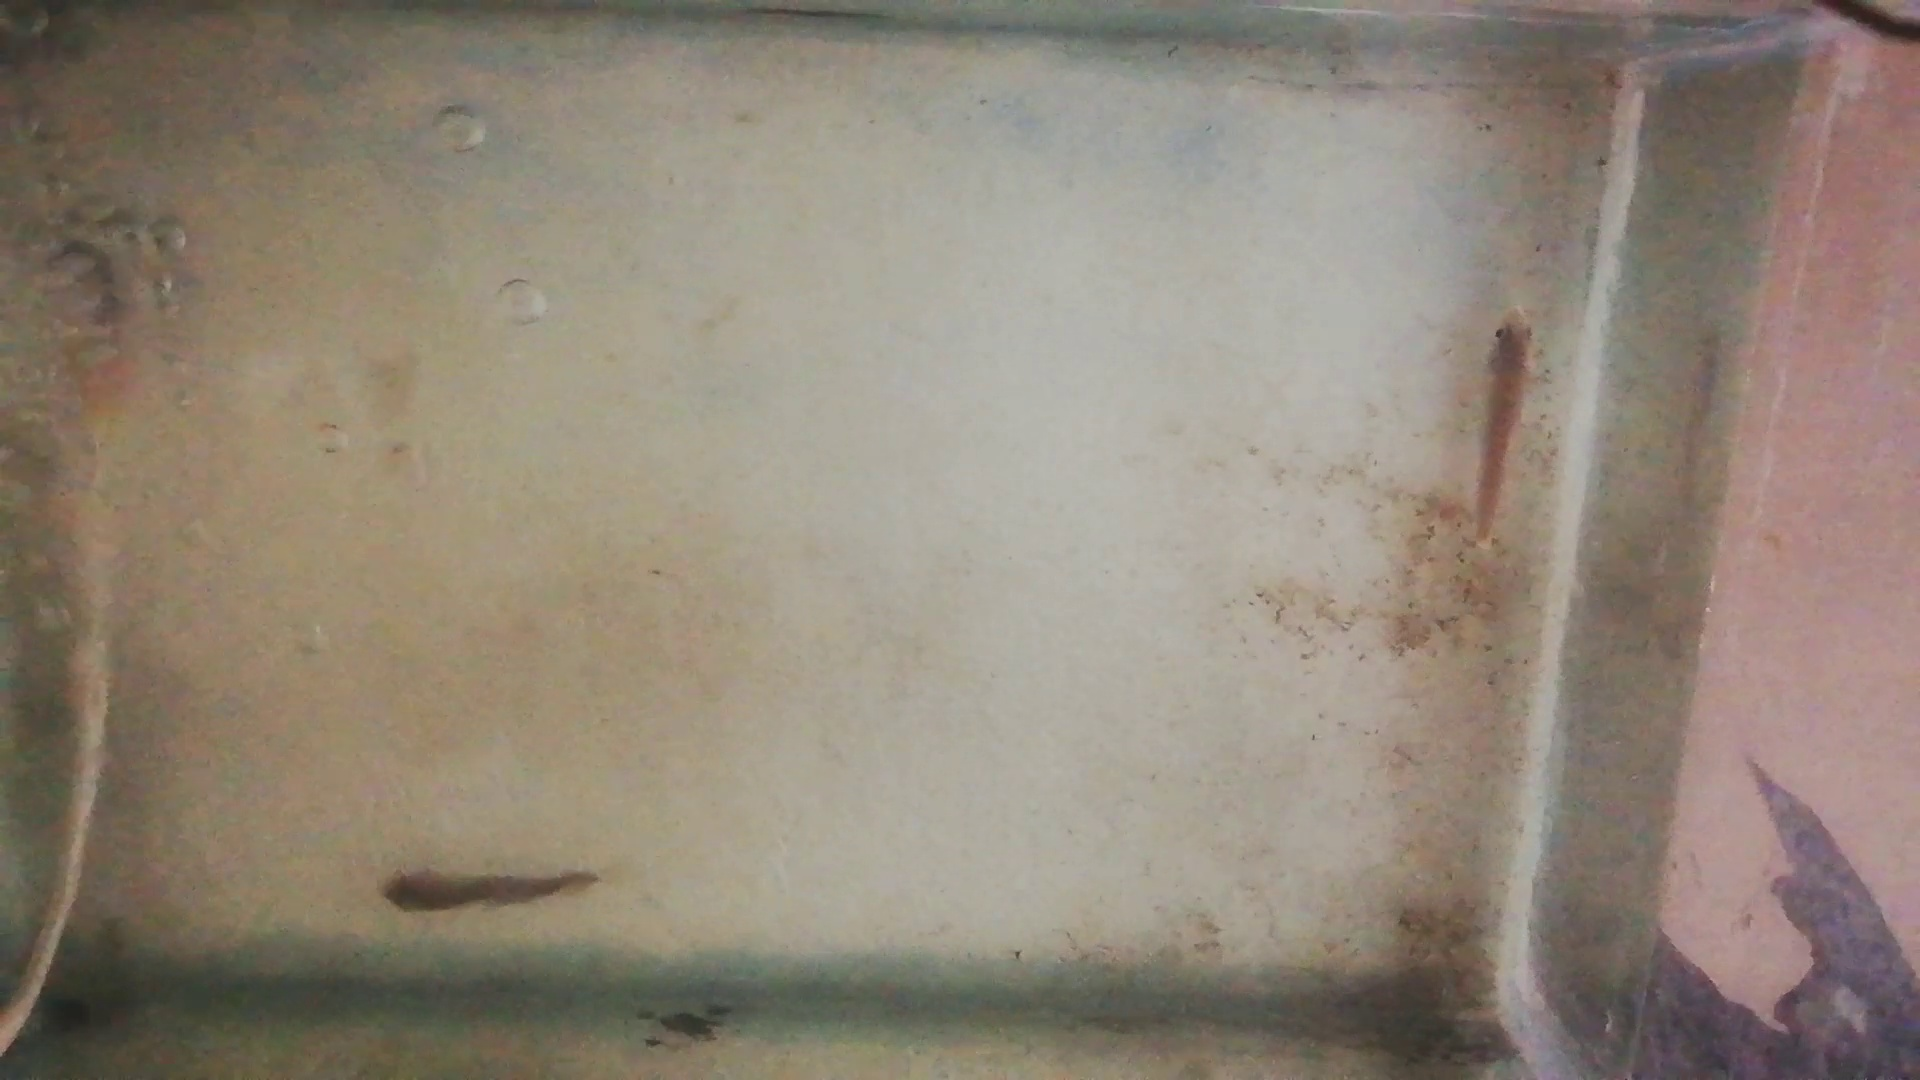fish: (1474, 307, 1534, 545), (378, 870, 599, 915)
